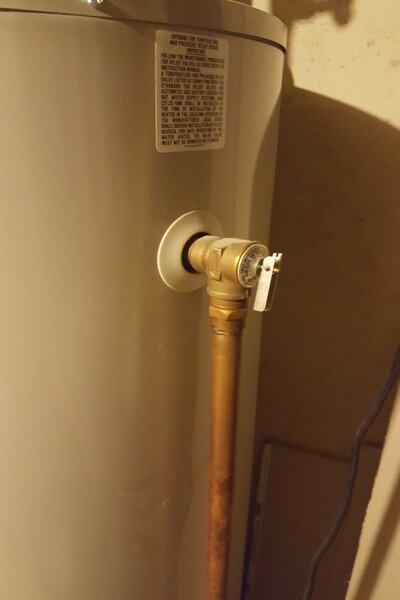valve: (179, 230, 285, 351)
